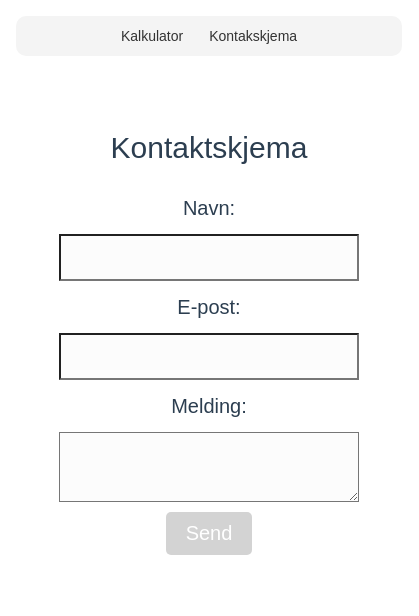
ContactForm.vue › should show error message on failed form submission
Type "Test Name" into the field with id "name" at (209,258), box left=59, top=234, right=359, bottom=281
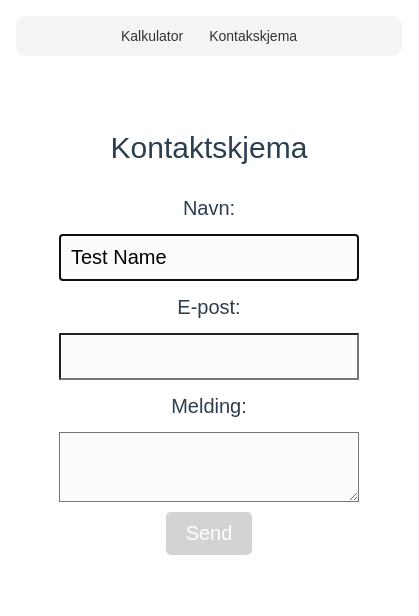
Type "test@example.com" into the field with id "email" at (209,357), box left=59, top=333, right=359, bottom=380
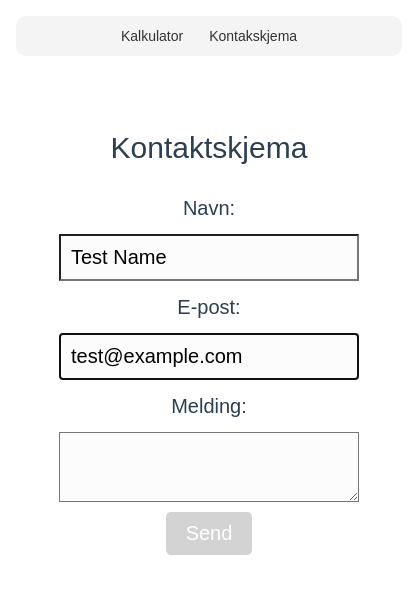
Type "Test message" into the text box with id "message" at (209,467), box left=59, top=432, right=359, bottom=502
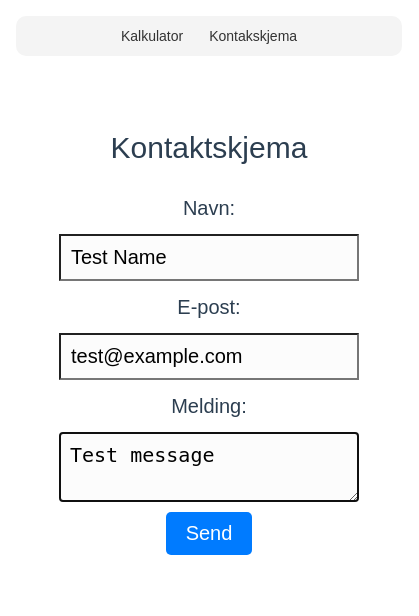
Click the button with id "submitButton" at (210,534), box left=166, top=512, right=253, bottom=555
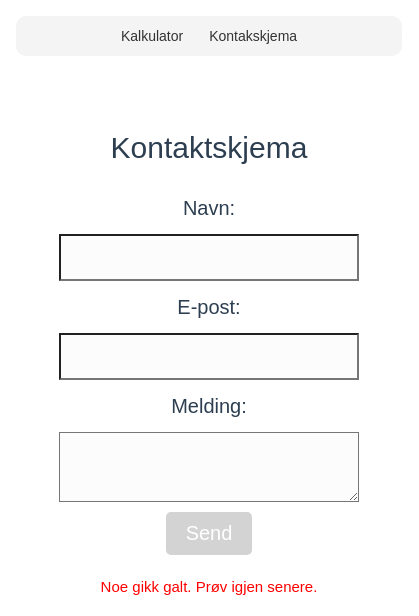
Now the text with class "error" reads "Noe gikk galt. Prøv igjen senere.", box left=101, top=578, right=318, bottom=595
